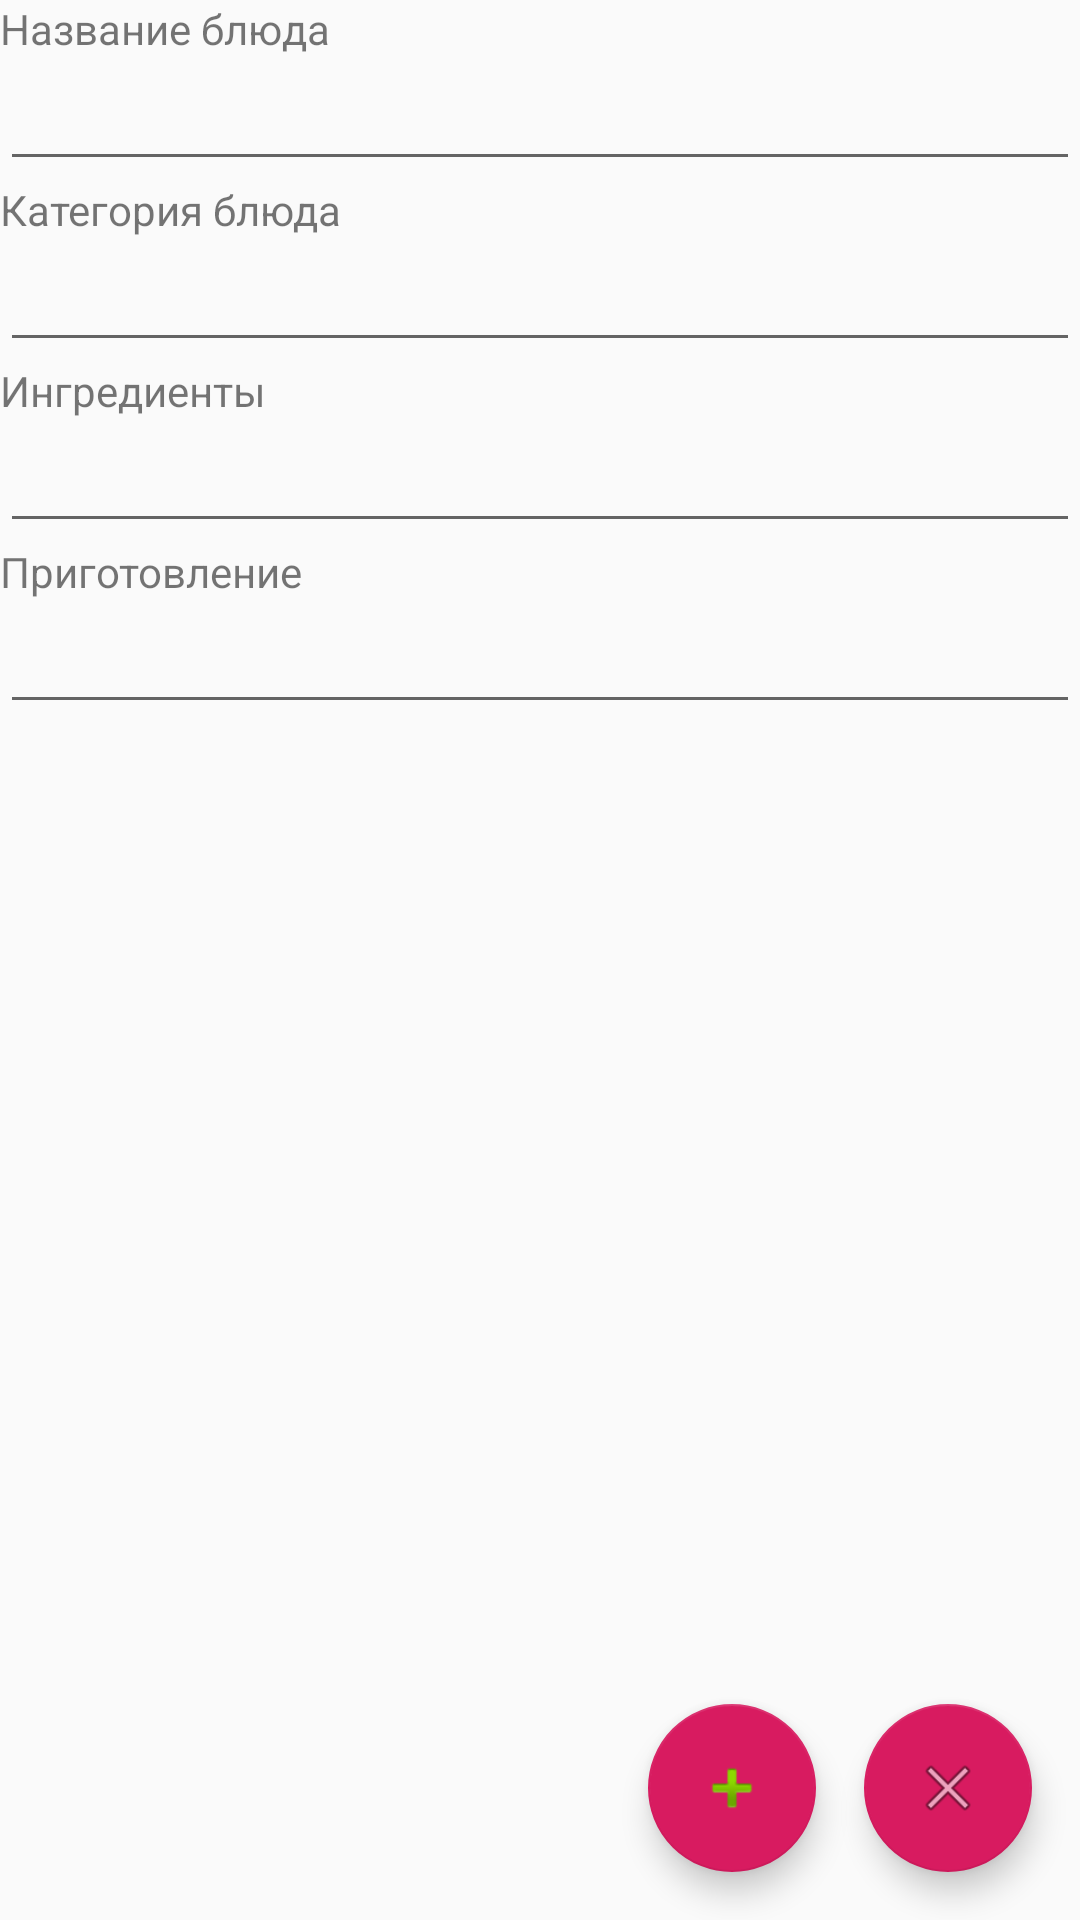

Where icons sit on this 1080px×1920px app screen, as detection(x1, y1, x2, y2):
add: detection(648, 1704, 816, 1872)
close clear cancel: detection(864, 1704, 1032, 1872)
